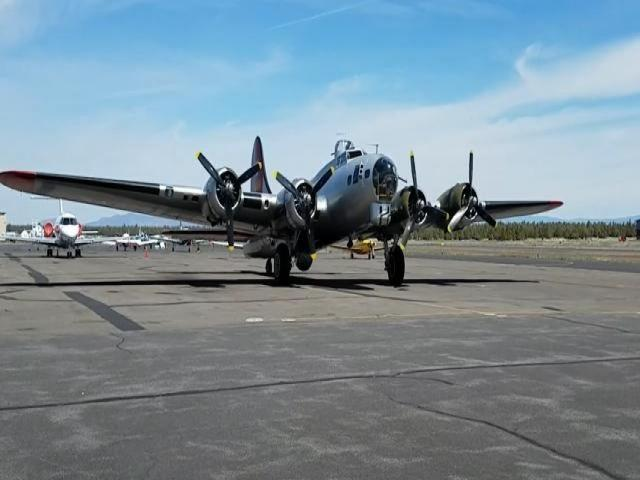iha: (1, 137, 553, 272)
